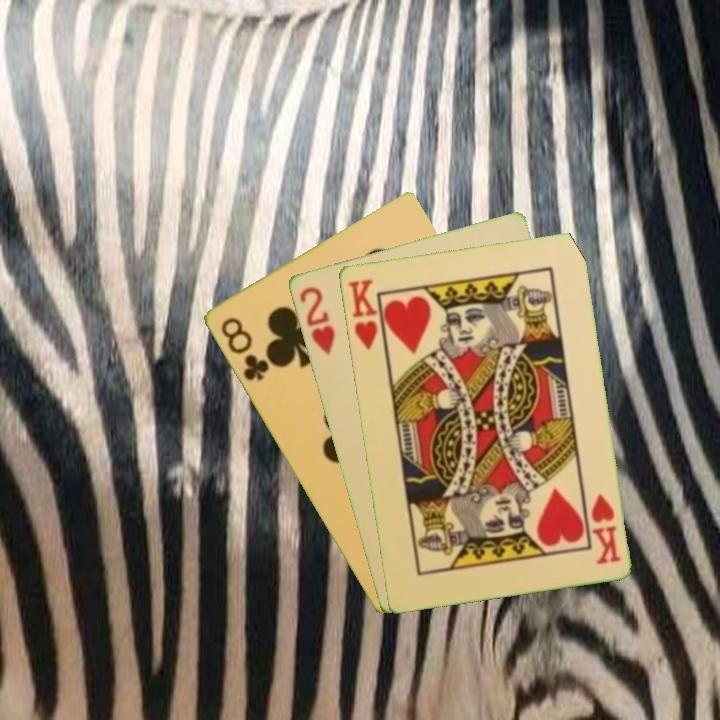2h: (295, 282, 337, 358)
8c: (216, 313, 272, 384)
Kh: (345, 275, 387, 355), (587, 490, 623, 567)
